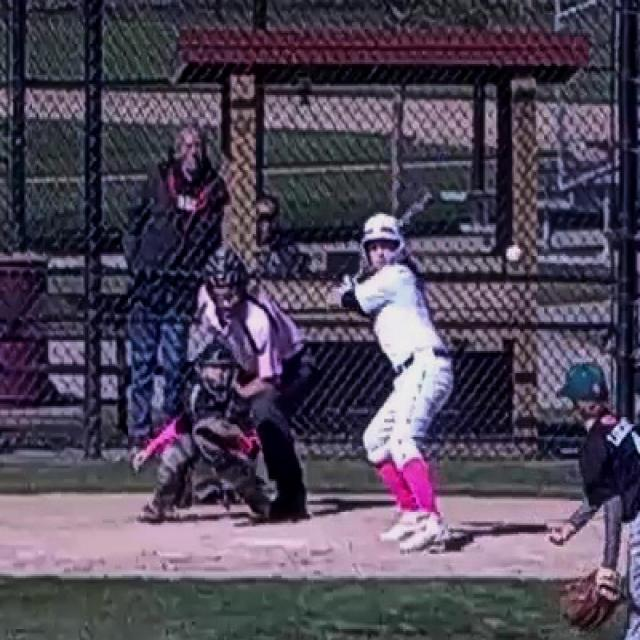baseball: (507, 246, 522, 261)
